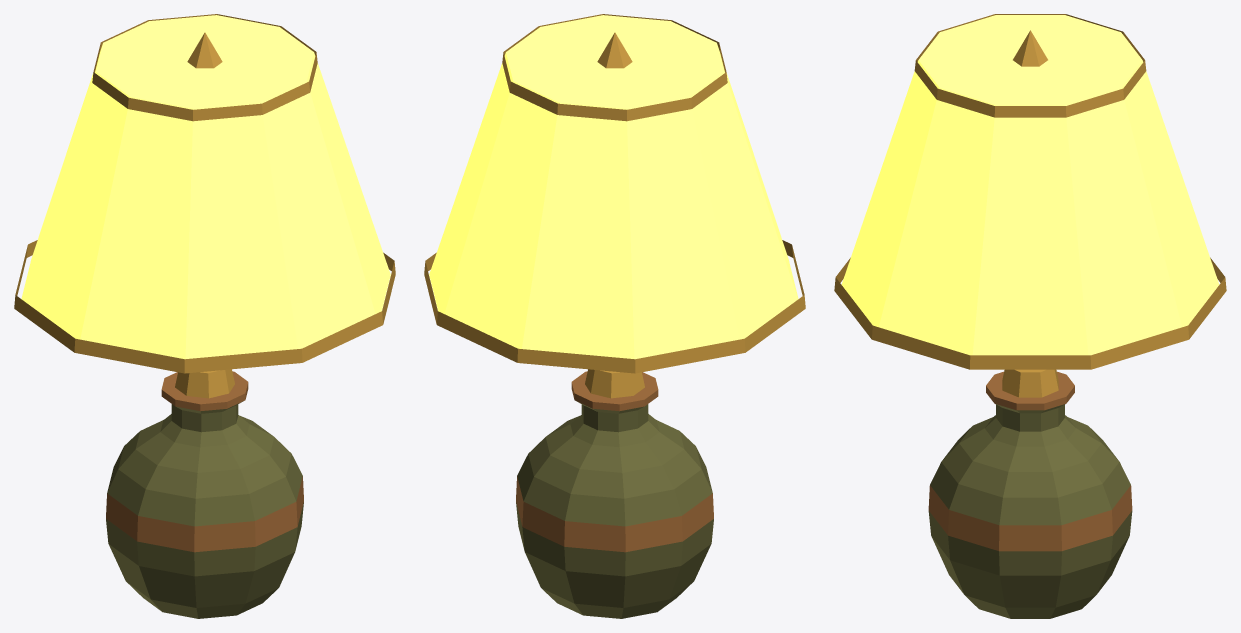
The model's file is Prop_TableLamp.fbx.
3 renders of one model, left to right at view 1: azimuth 30°, elevation 25°; view 2: azimuth 150°, elevation 25°; view 3: azimuth 270°, elevation 25°, orthographic.
Parts seen in each view (by area): view 1: Prop_TableLamp; view 2: Prop_TableLamp; view 3: Prop_TableLamp.
Boxes of the visible parts, x1,y1,x2,y2 form: Prop_TableLamp: (14, 14, 395, 618); Prop_TableLamp: (424, 14, 805, 618); Prop_TableLamp: (834, 14, 1226, 618).
Size of the model in its own units: 0.2929 by 0.488 by 0.308.
